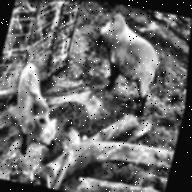boar: (74, 7, 192, 149), (0, 46, 101, 188)
